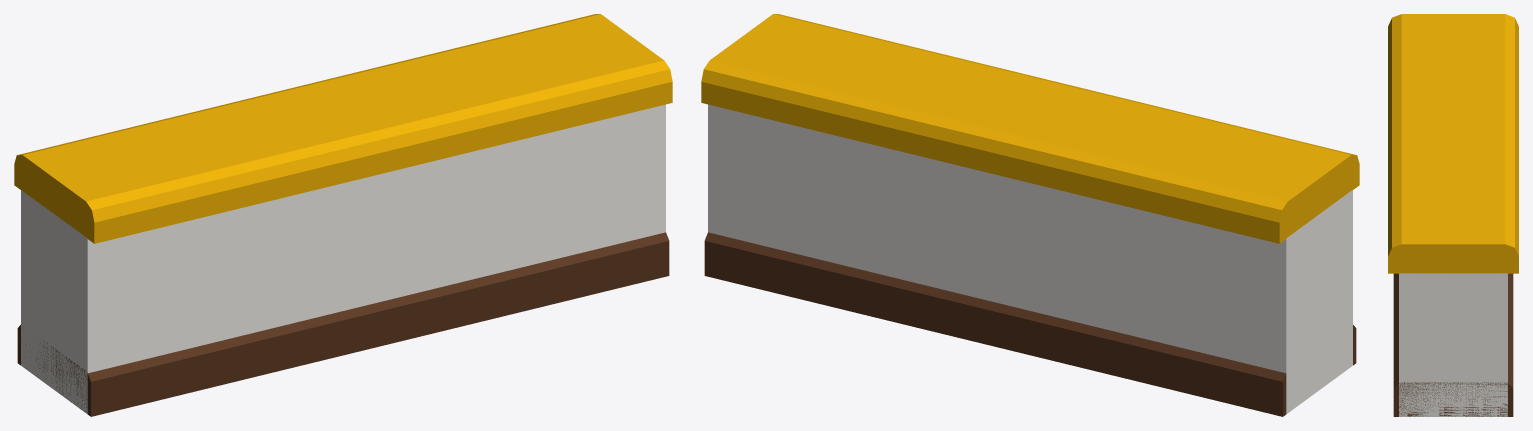
Rendered from wand_sockel.glb.
3 renders of one model, left to right at view 1: azimuth 30°, elevation 25°; view 2: azimuth 150°, elevation 25°; view 3: azimuth 270°, elevation 25°, orthographic. The views are drawn at different scales.
Parts seen in each view (by area): view 1: wand_sockel; view 2: wand_sockel; view 3: wand_sockel.
Boxes of the visible parts, box(x1,y1,x2,y2) form: wand_sockel: box(14, 14, 672, 416); wand_sockel: box(701, 14, 1359, 416); wand_sockel: box(1388, 14, 1518, 416).
Size of the model in its own units: 1 by 0.35 by 0.24.
